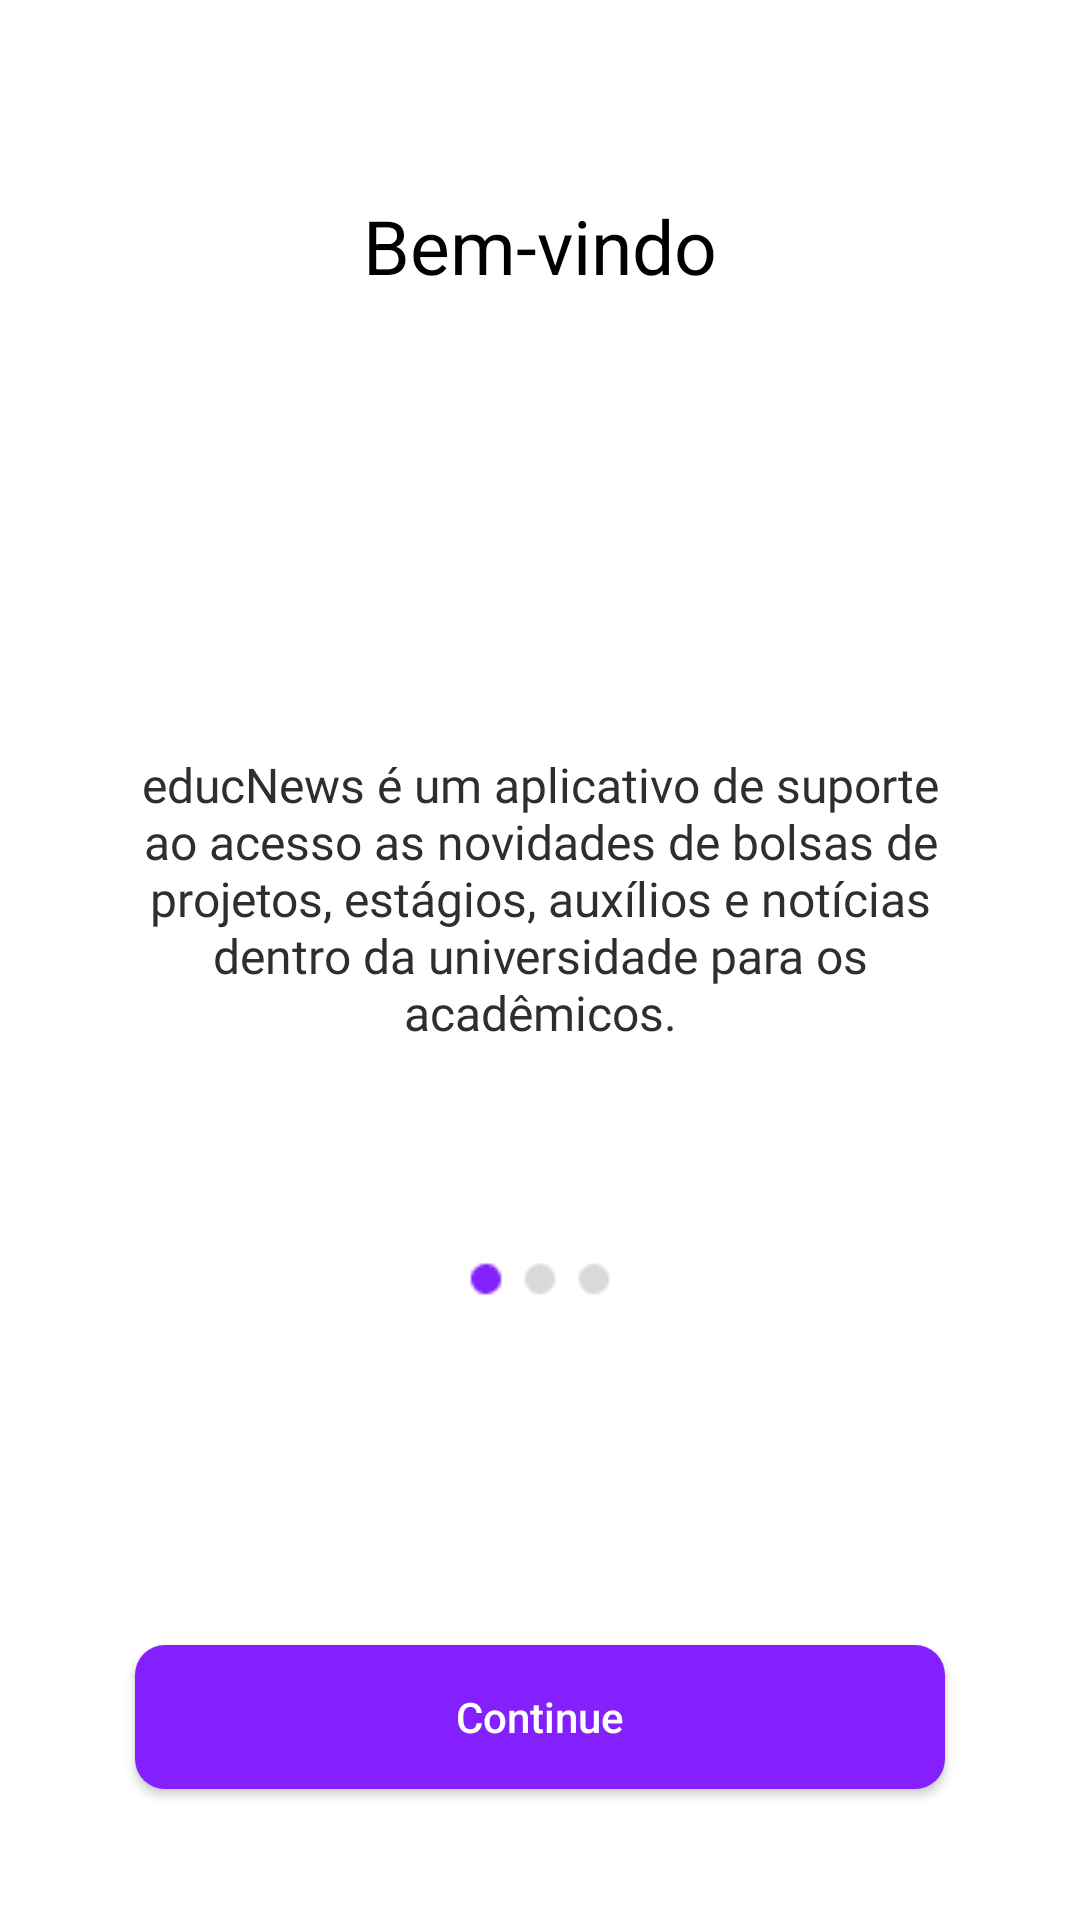

Screen size 1080x1920. Icon name, then its box in pixels as Rect(x1, y1, x2, y2):
ponto: Rect(470, 1263, 609, 1295)
